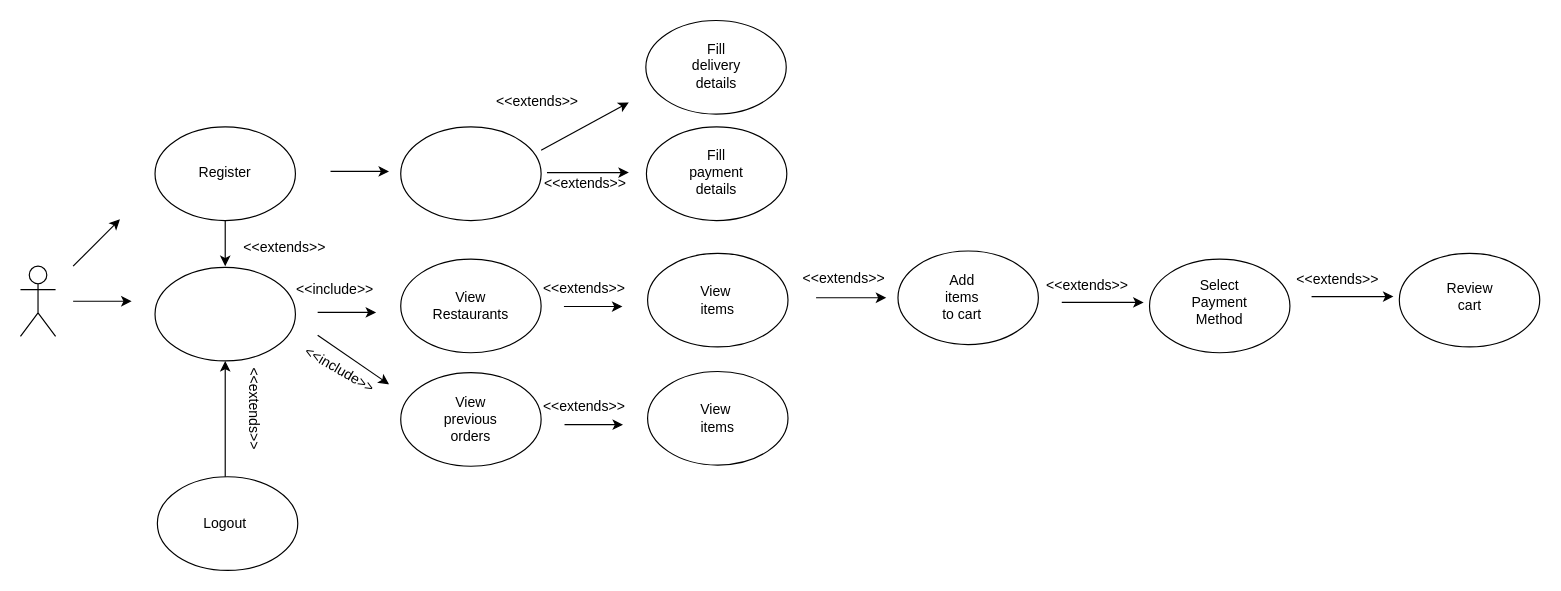
Image size: 1561x591. Some labels were removed from this diagram. The box of each missing label's shape, as (x1, y1, x2, y2) in pixels:
Actor: (19, 265, 56, 336)
Login: (154, 266, 295, 361)
Profile: (400, 126, 541, 221)
